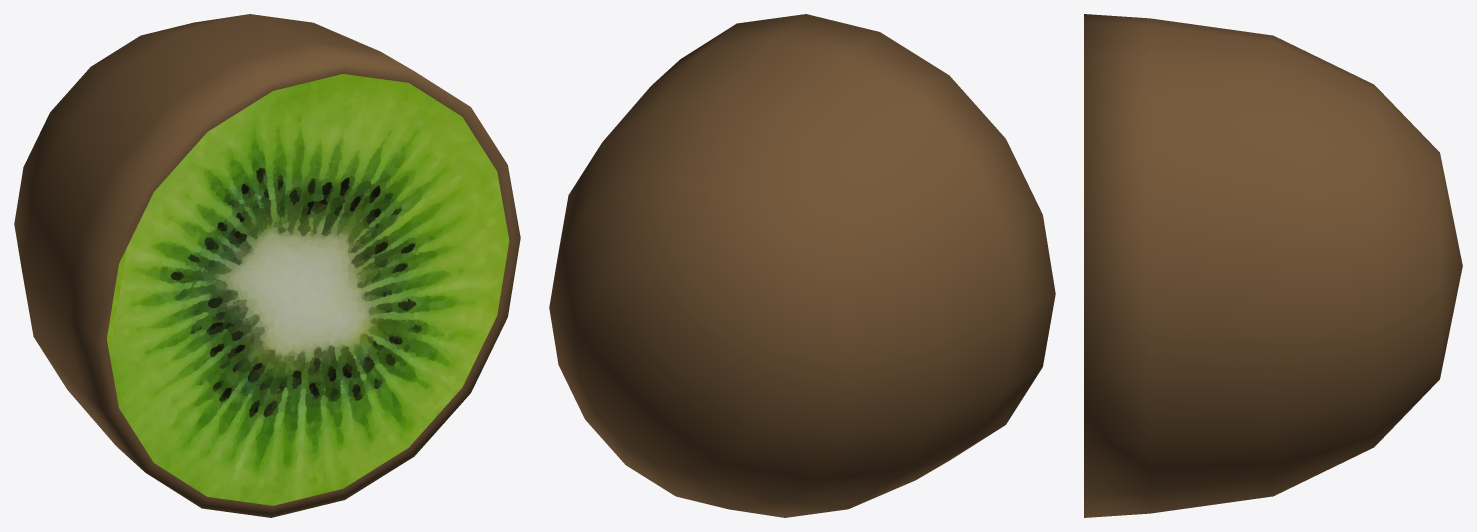
File: Kiwi.glb
The picture shows the model from 3 angles, left to right: view 1: azimuth 30°, elevation 25°; view 2: azimuth 150°, elevation 25°; view 3: azimuth 270°, elevation 25°; orthographic projection. The views are drawn at different scales.
Parts seen in each view (by area): view 1: Kiwi; view 2: Kiwi; view 3: Kiwi.
Boxes of the visible parts, x1,y1,x2,y2 form: Kiwi: [14, 14, 520, 517]; Kiwi: [549, 14, 1055, 517]; Kiwi: [1084, 14, 1462, 517].
Size of the model in its own units: 2 by 1.97 by 1.5.
Materials: 2 (1 with a texture image).
